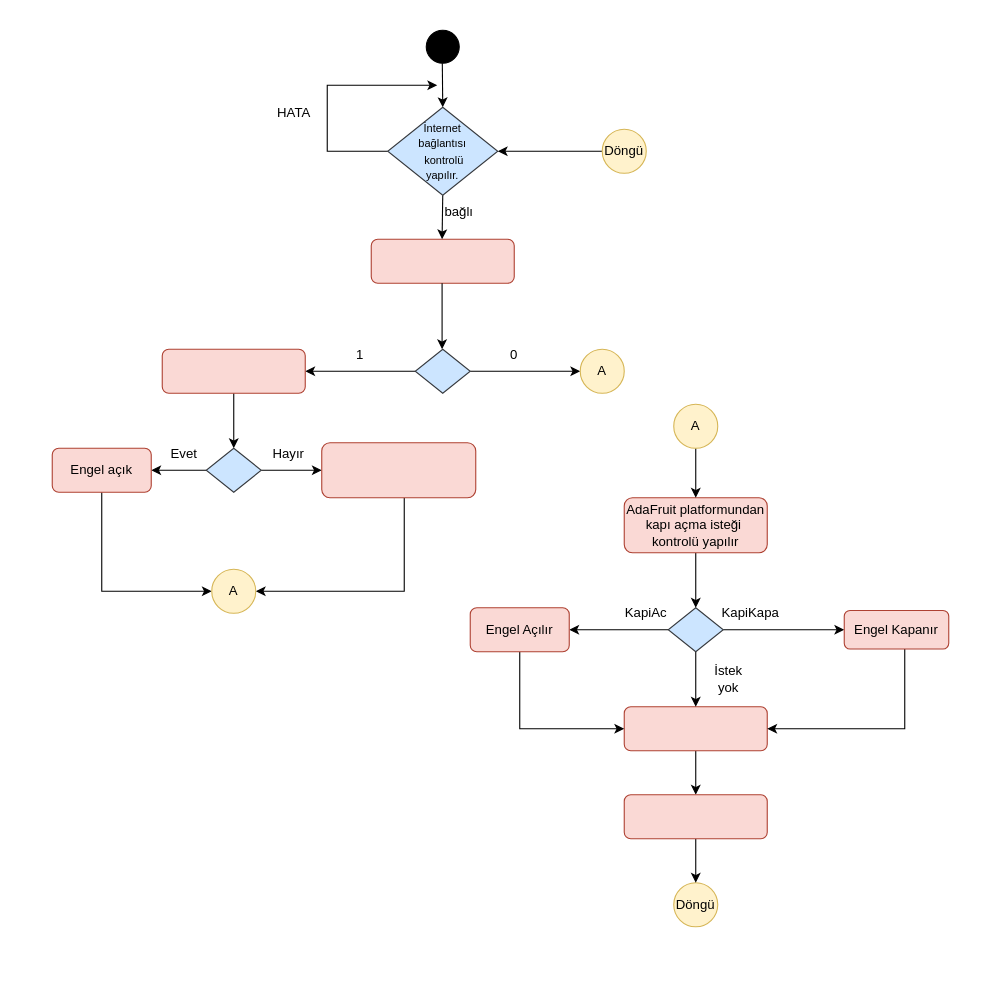
Image size: 994x994. Some labels were removed from this diagram. The shapes that lost their labels are listed below. From the top down, each one's centre as x and y in pixels, then its label:
At (442,260): "Sensörler kontrol edilir.".
At (233,370): "Boş park yeri var mı?".
At (398,470): "Engel kapalı Boş yer yok yazdırılır.".
At (695,728): "AdaFruit platformuna veri yollanır.".
At (695,816): "Park yerleri doluluğu güncellenir.".
